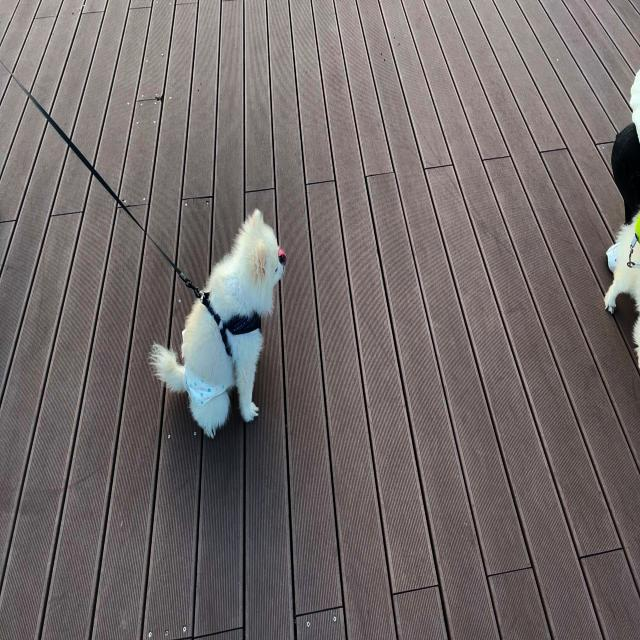Dog: (150, 207, 288, 438)
